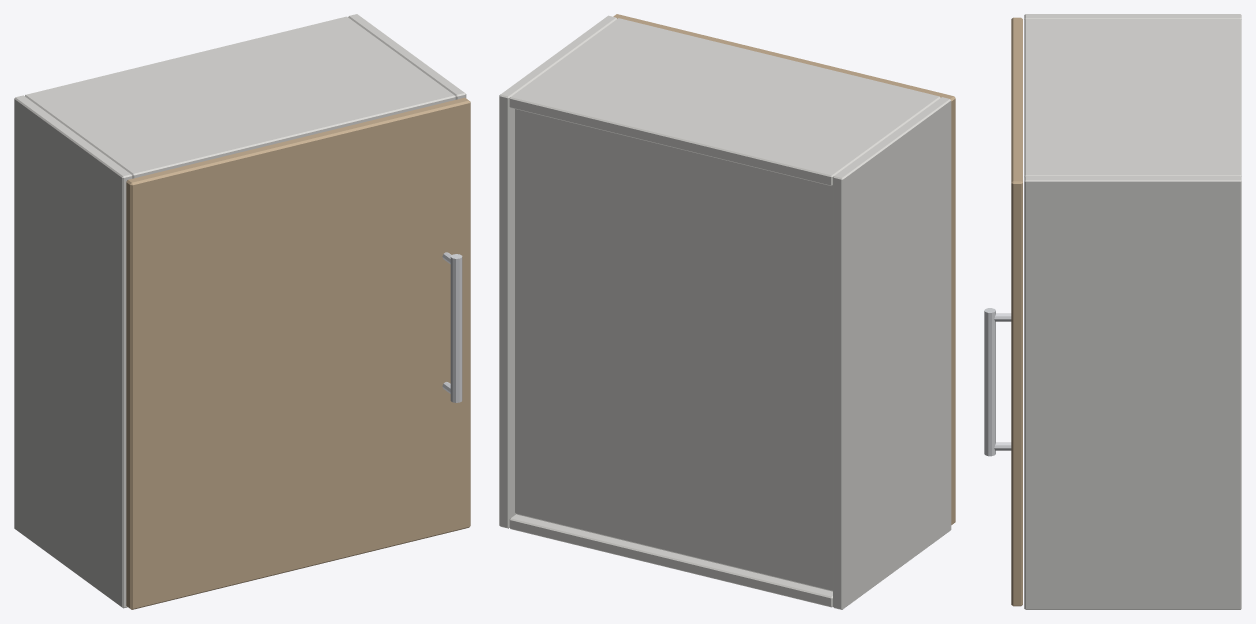
Rendered from wall-600-oak-13fc0944.glb.
The picture shows the model from 3 angles, left to right: view 1: azimuth 30°, elevation 25°; view 2: azimuth 150°, elevation 25°; view 3: azimuth 270°, elevation 25°; orthographic projection.
Visible parts, largest first — view 1: door-left/surface, wall-600-oak, door-left/metal; view 2: wall-600-oak, door-left/surface; view 3: wall-600-oak, door-left/surface, door-left/metal.
Boxes of the visible parts, left/top/right/bottom form: door-left/surface: left=126, top=97, right=470, bottom=609; wall-600-oak: left=14, top=14, right=466, bottom=608; door-left/metal: left=442, top=252, right=462, bottom=402; wall-600-oak: left=499, top=15, right=951, bottom=609; door-left/surface: left=613, top=14, right=955, bottom=524; wall-600-oak: left=1024, top=14, right=1241, bottom=609; door-left/surface: left=1011, top=17, right=1022, bottom=606; door-left/metal: left=984, top=308, right=1011, bottom=456.
Size of the model in its own units: 0.6 by 0.72 by 0.391.
